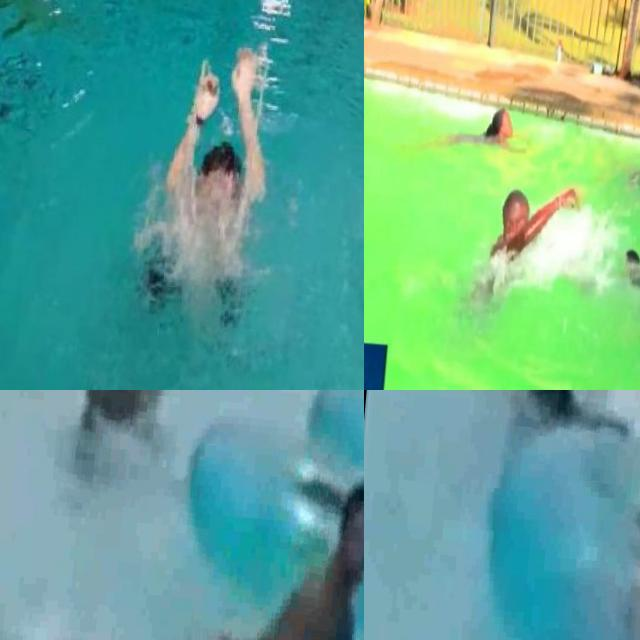drowning: (149, 35, 279, 299), (451, 390, 640, 457), (0, 465, 50, 640), (605, 230, 640, 362)
swimming: (237, 459, 364, 640), (464, 177, 579, 340), (424, 98, 536, 178), (612, 132, 640, 209)
